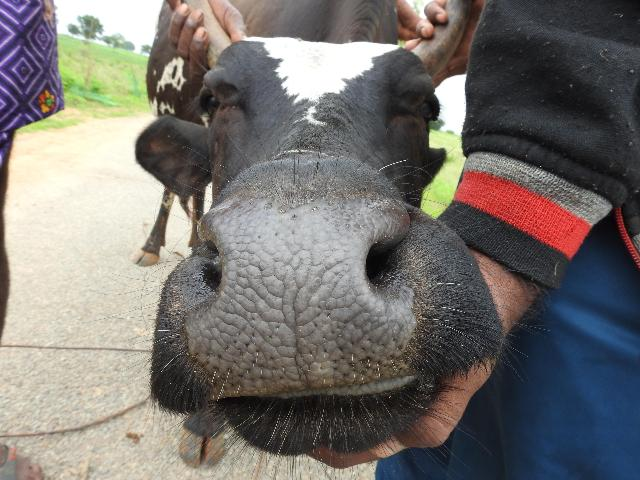Muzzle: (204, 211, 396, 378)
